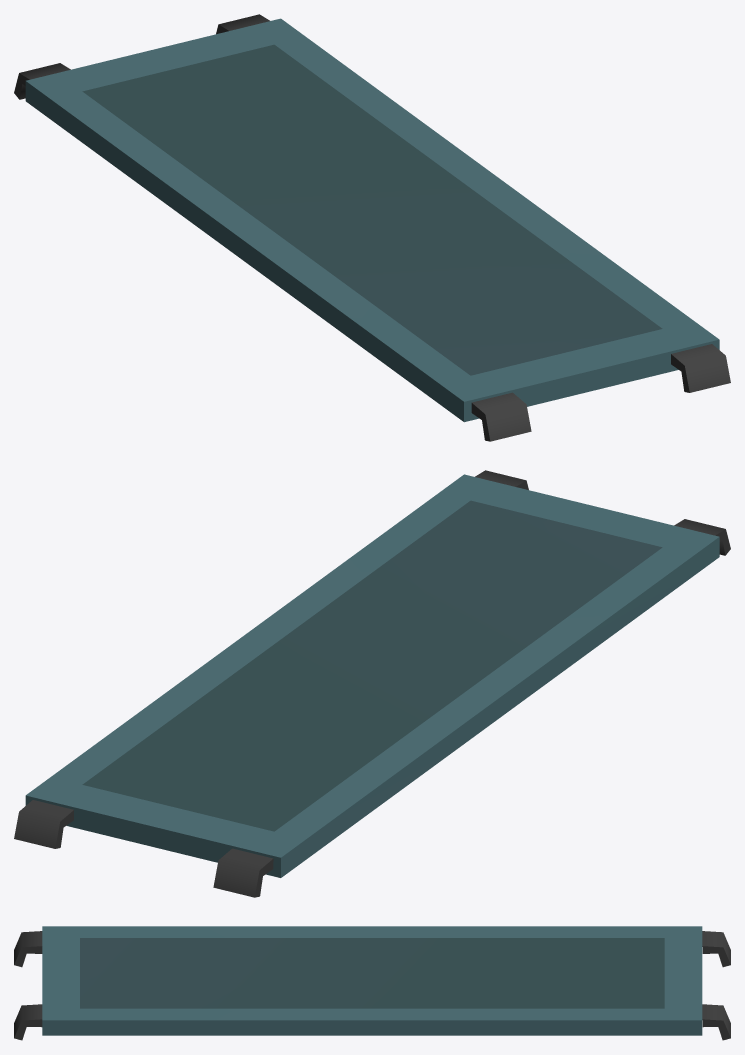
Rendered from Scaffolding_Plank_F.fbx.
3 views of the same model, one above another, from view 1: azimuth 30°, elevation 25°; view 2: azimuth 150°, elevation 25°; view 3: azimuth 270°, elevation 25° (orthographic). The views are drawn at different scales.
Visible parts, largest first — view 1: Scaffolding_Plank_F; view 2: Scaffolding_Plank_F; view 3: Scaffolding_Plank_F.
Boxes of the visible parts, bbox=[...] form: Scaffolding_Plank_F: bbox=[14, 14, 730, 441]; Scaffolding_Plank_F: bbox=[14, 470, 730, 897]; Scaffolding_Plank_F: bbox=[14, 926, 730, 1040].
Bounding box in the file's own units: 65.43 × 7.53 × 211.
